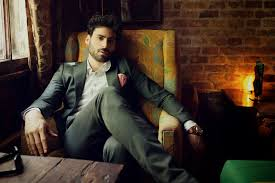middle_eastern_male: (87, 24, 115, 59)
